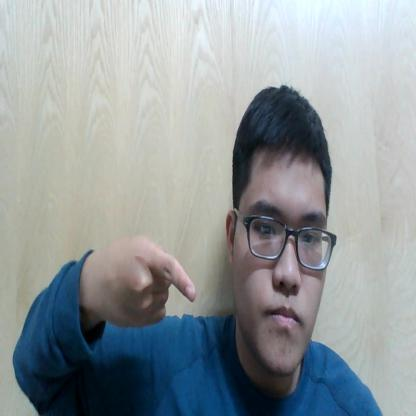left: (101, 222, 205, 347)
